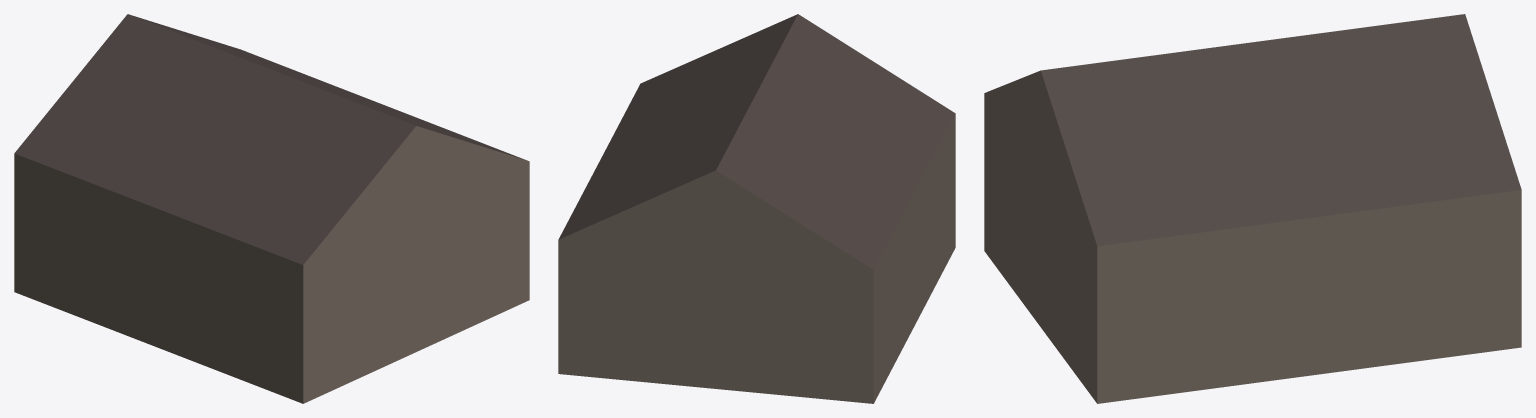
3 views of the same model, side by side, from view 1: azimuth 30°, elevation 25°; view 2: azimuth 150°, elevation 25°; view 3: azimuth 270°, elevation 25° (orthographic). The views are drawn at different scales.
Visible parts, largest first — view 1: HP-w206609489; view 2: HP-w206609489; view 3: HP-w206609489.
Part boxes in pixels (left/top/right/bottom): HP-w206609489: left=14, top=14, right=529, bottom=403; HP-w206609489: left=558, top=14, right=955, bottom=403; HP-w206609489: left=984, top=14, right=1521, bottom=403.
Size of the model in its own units: 17.12 by 9.78 by 18.55.
